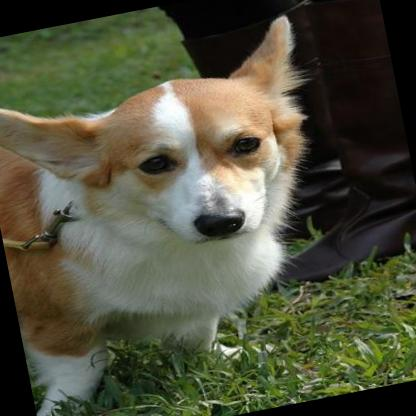Pembroke: (0, 7, 369, 416)
